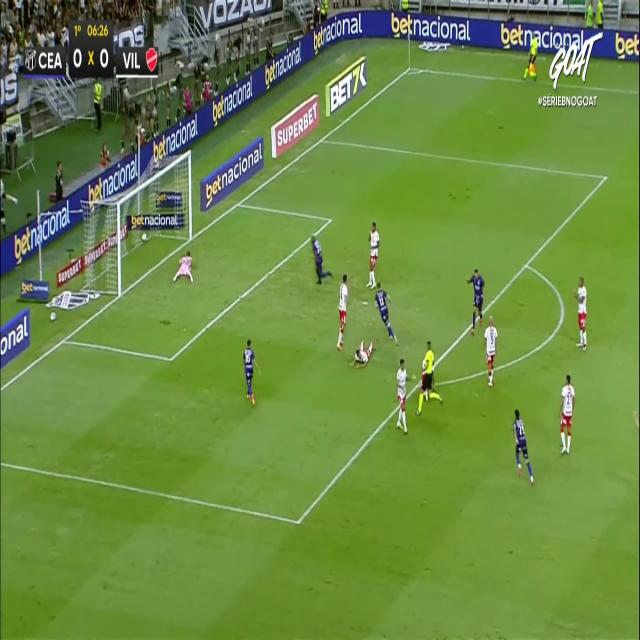ball: (140, 226, 150, 248)
goalkeeper: (173, 250, 194, 284)
player: (513, 408, 534, 486), (374, 281, 398, 345), (396, 357, 416, 433), (559, 374, 575, 455), (466, 268, 485, 335), (243, 339, 261, 405), (352, 326, 375, 377), (310, 233, 332, 284), (573, 276, 587, 350), (484, 315, 498, 386), (336, 274, 348, 350), (366, 220, 379, 288)
referee: (415, 341, 443, 415), (522, 28, 544, 89)
